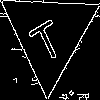T: (24, 10, 67, 65)
